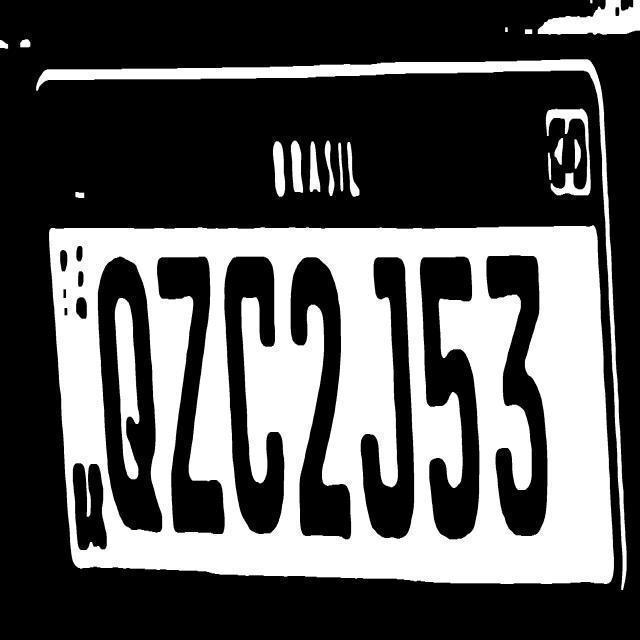2: (290, 248, 352, 542)
3: (486, 241, 548, 544)
5: (418, 240, 481, 546)
c: (224, 243, 286, 542)
j: (360, 246, 415, 539)
q: (96, 240, 166, 546)
z: (156, 247, 225, 540)
